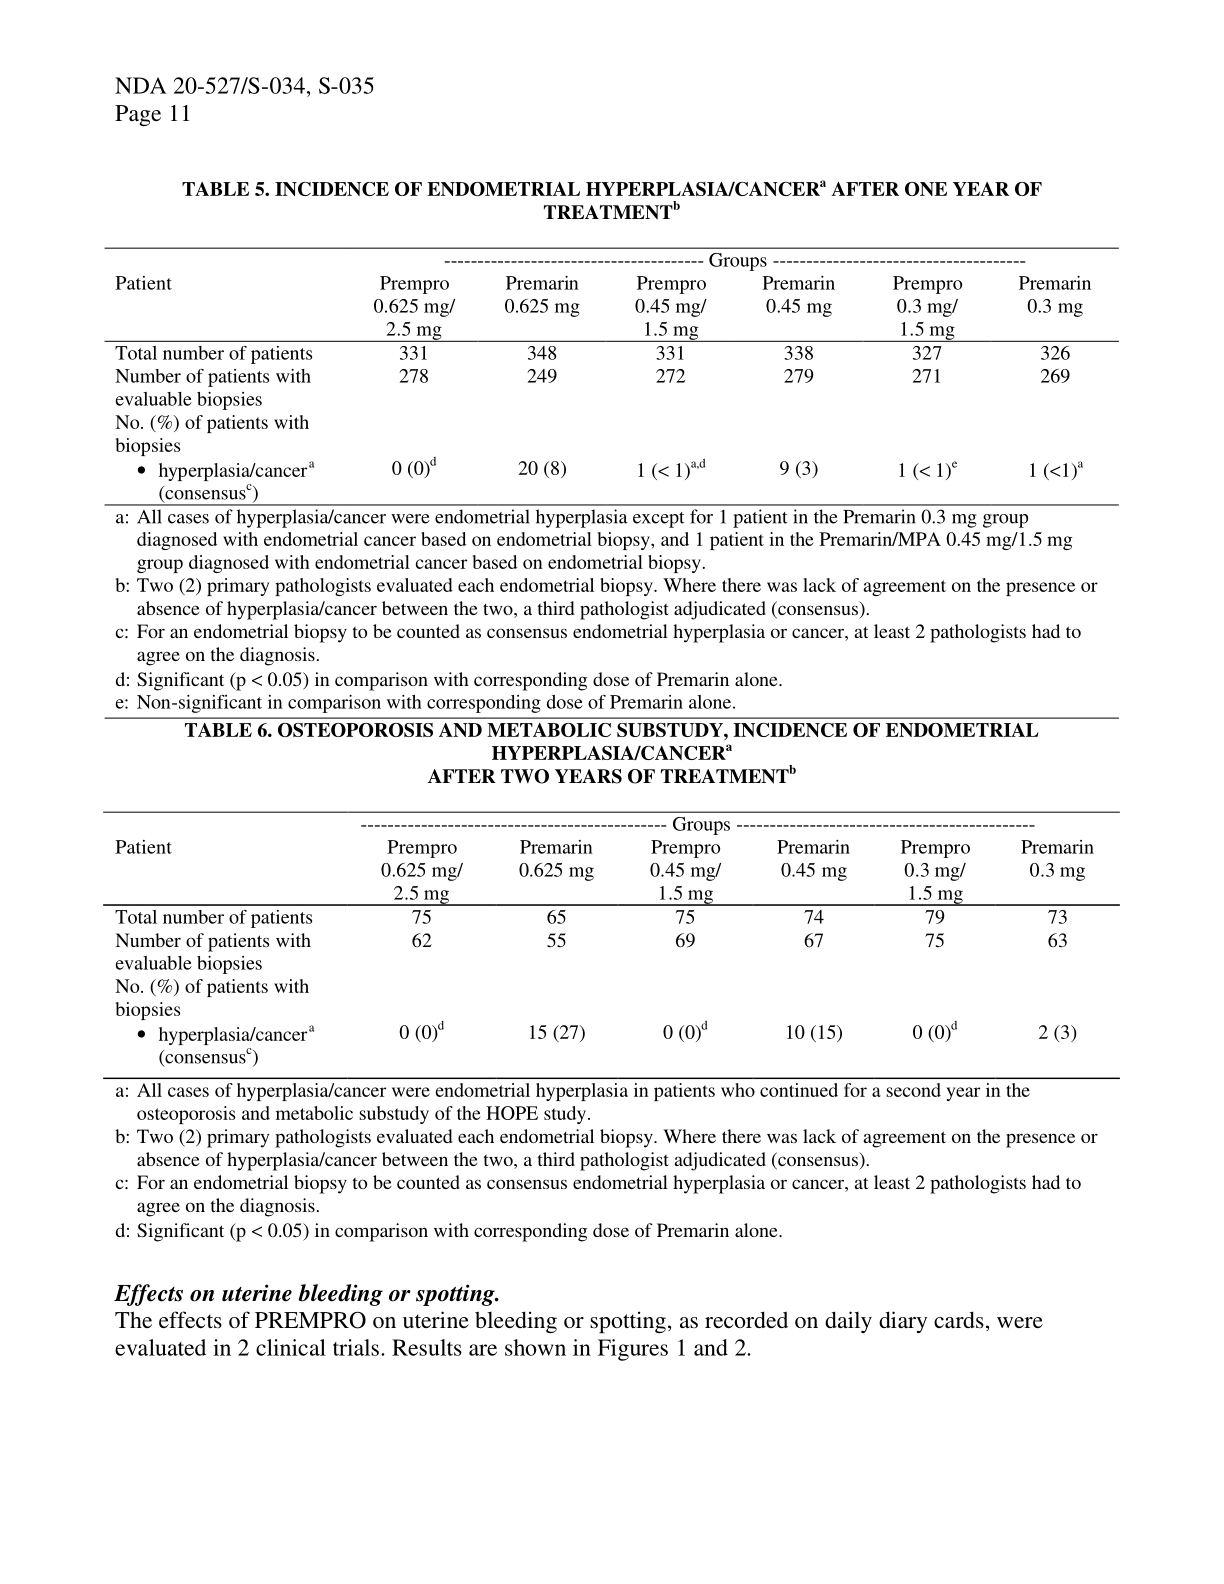partial_lined_merged_cells: (102, 809, 1124, 1083), (103, 246, 1124, 508)
